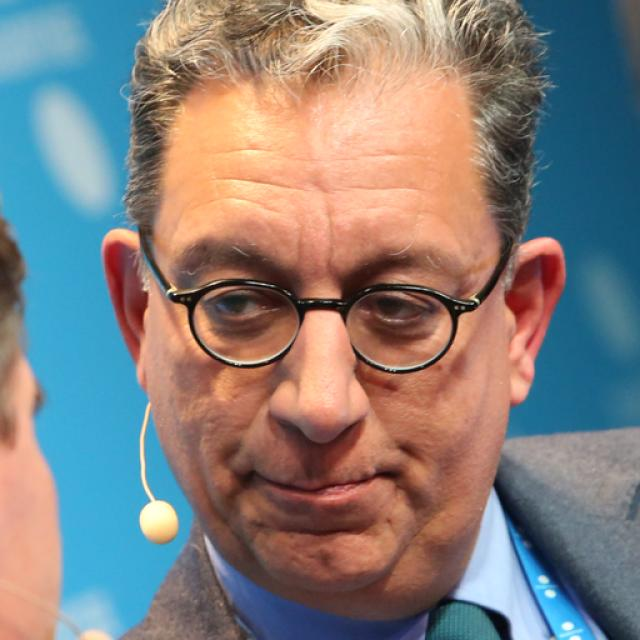Wrinkle: (206, 166, 311, 196), (205, 138, 309, 166), (191, 189, 298, 216), (341, 144, 442, 166), (342, 172, 428, 195), (325, 207, 339, 271)
